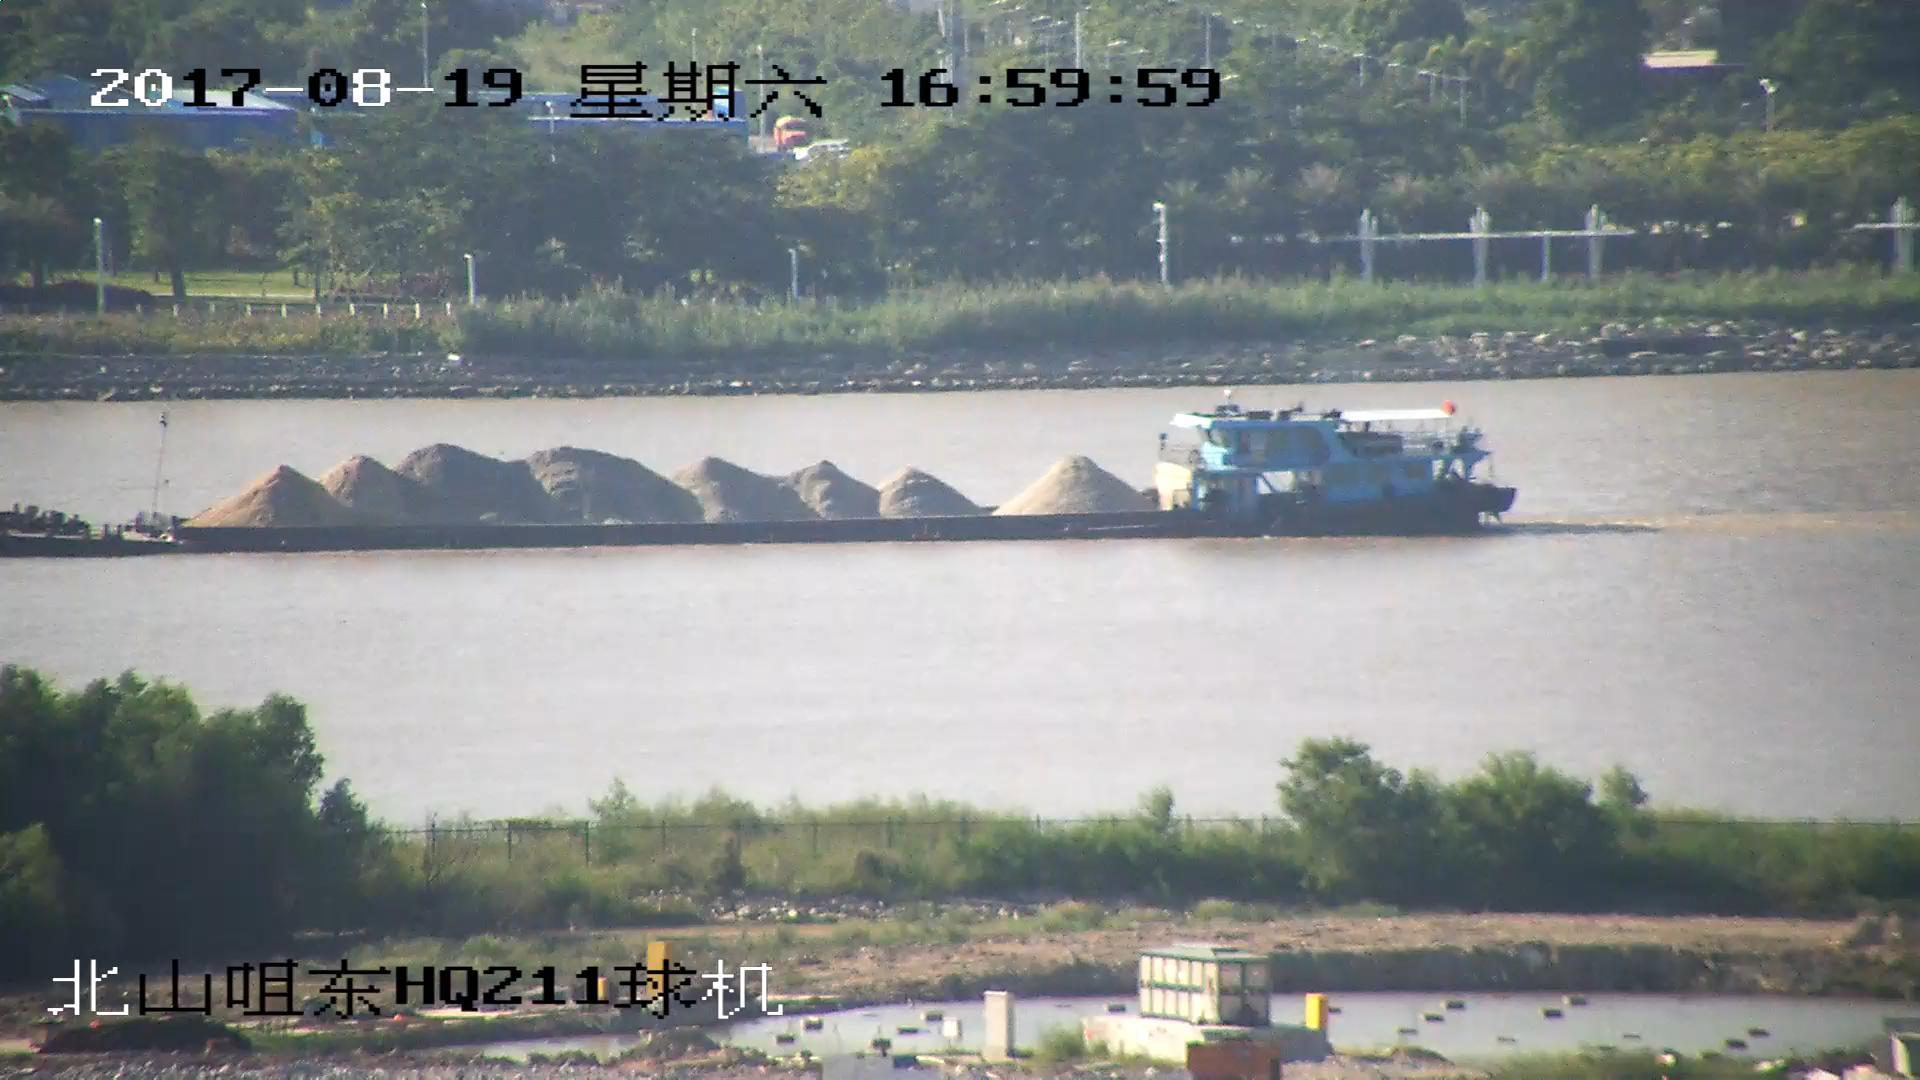Ship: (3, 396, 1524, 555)
